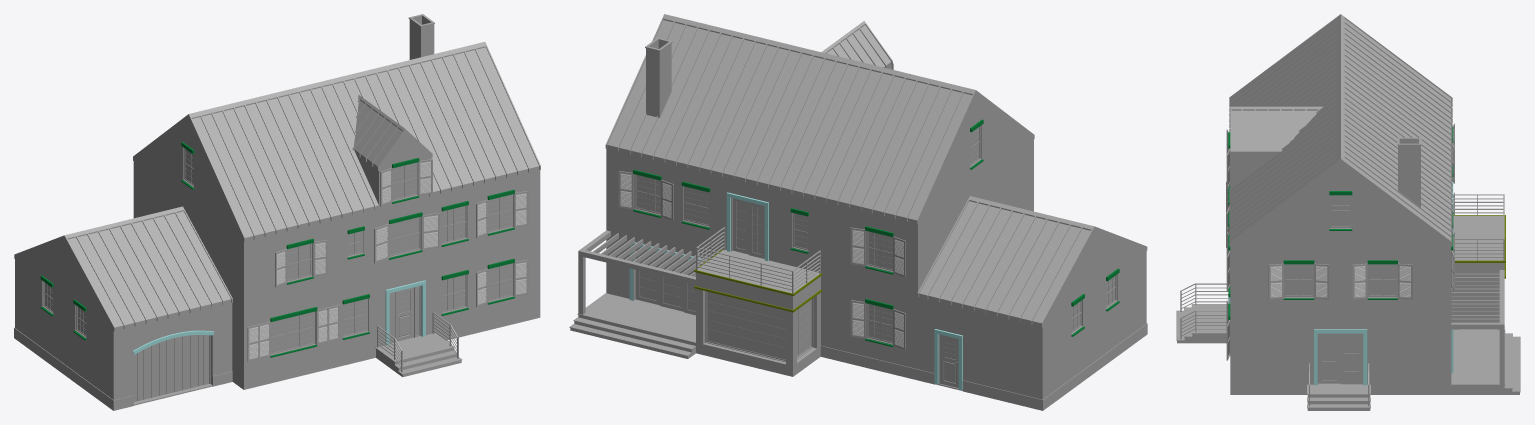
File: Modern Brick House_1_obj.obj
The picture shows the model from 3 angles, left to right: view 1: azimuth 30°, elevation 25°; view 2: azimuth 150°, elevation 25°; view 3: azimuth 270°, elevation 25°; orthographic projection. The views are drawn at different scales.
Visible parts, largest first — view 1: MBH1OBJ_01, MBH1OBJ_05, MBH1OBJ_02, MBH1OBJ_06, MBH1OBJ_03, MBH1OBJ_04; view 2: MBH1OBJ_01, MBH1OBJ_05, MBH1OBJ_02, MBH1OBJ_04, MBH1OBJ_03, MBH1OBJ_06, MBH1OBJ_07; view 3: MBH1OBJ_05, MBH1OBJ_01, MBH1OBJ_04, MBH1OBJ_02, MBH1OBJ_03, MBH1OBJ_06, MBH1OBJ_07.
Boxes of the visible parts, x1,y1,x2,y2 form: MBH1OBJ_01: (14,42,540,331); MBH1OBJ_05: (15,14,540,399); MBH1OBJ_02: (40,142,528,361); MBH1OBJ_06: (132,280,425,401); MBH1OBJ_03: (14,307,540,410); MBH1OBJ_04: (375,312,462,377); MBH1OBJ_01: (605,14,1147,327); MBH1OBJ_05: (606,37,1146,399); MBH1OBJ_02: (618,63,1119,362); MBH1OBJ_04: (569,230,707,358); MBH1OBJ_03: (635,250,1147,410); MBH1OBJ_06: (629,192,962,390); MBH1OBJ_07: (696,227,820,293); MBH1OBJ_05: (1230,137,1505,384); MBH1OBJ_01: (1229,14,1452,246); MBH1OBJ_04: (1176,270,1520,410); MBH1OBJ_02: (1226,123,1454,360); MBH1OBJ_03: (1230,219,1496,394); MBH1OBJ_06: (1228,181,1453,385); MBH1OBJ_07: (1453,194,1504,260).
Bounding box in the file's own units: 820 × 416 × 542.
